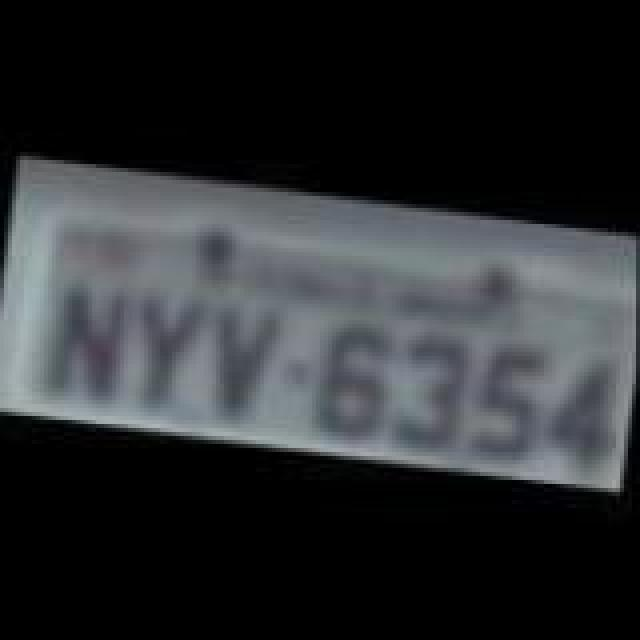3: (384, 326, 472, 450)
4: (548, 348, 628, 476)
5: (464, 334, 552, 462)
6: (310, 314, 390, 442)
N: (46, 272, 142, 408)
V: (200, 292, 292, 420)
Y: (124, 288, 208, 412)
